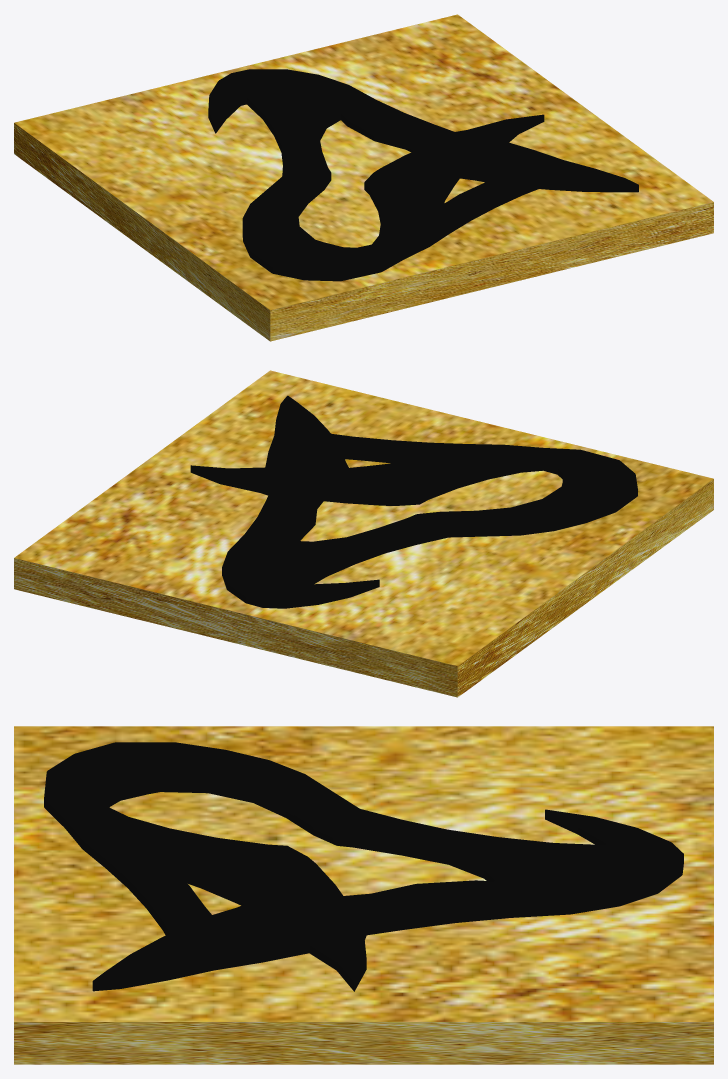
File: blue.fbx
The picture shows the model from 3 angles, top to bottom: view 1: azimuth 30°, elevation 25°; view 2: azimuth 150°, elevation 25°; view 3: azimuth 270°, elevation 25°; orthographic projection. The views are drawn at different scales.
Parts seen in each view (by area): view 1: pCube1, Alien_Blue1; view 2: pCube1, Alien_Blue1; view 3: pCube1, Alien_Blue1.
Boxes of the visible parts, x1=… form: pCube1: x1=14, y1=14, x2=713, y2=341; Alien_Blue1: x1=208, y1=69, x2=638, y2=281; pCube1: x1=14, y1=370, x2=713, y2=697; Alien_Blue1: x1=190, y1=395, x2=637, y2=608; pCube1: x1=14, y1=726, x2=713, y2=1064; Alien_Blue1: x1=44, y1=742, x2=683, y2=991.
Bounding box in the file's own units: 10 × 0.9441 × 10.
Materials: 2 (1 with a texture image).
